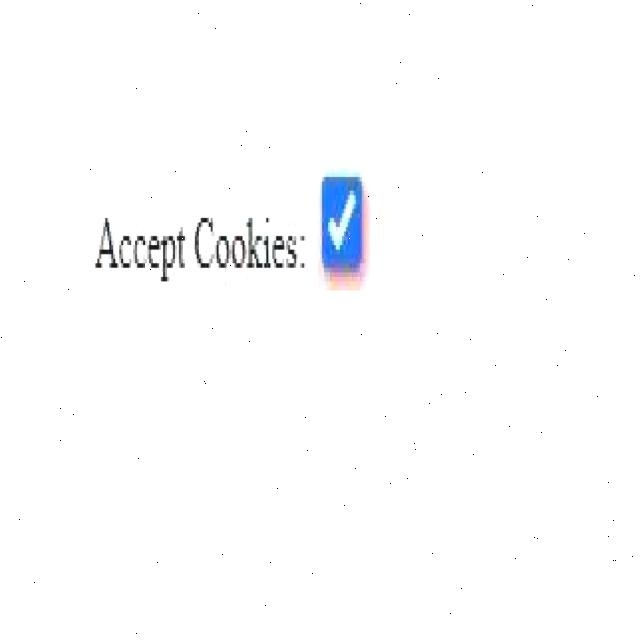checkbox: (318, 170, 366, 278)
label: (83, 206, 312, 288)
